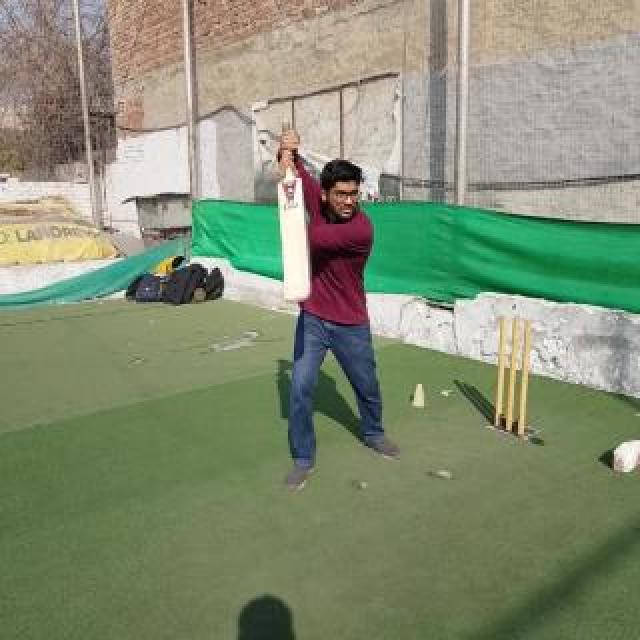bat: (276, 116, 312, 304)
